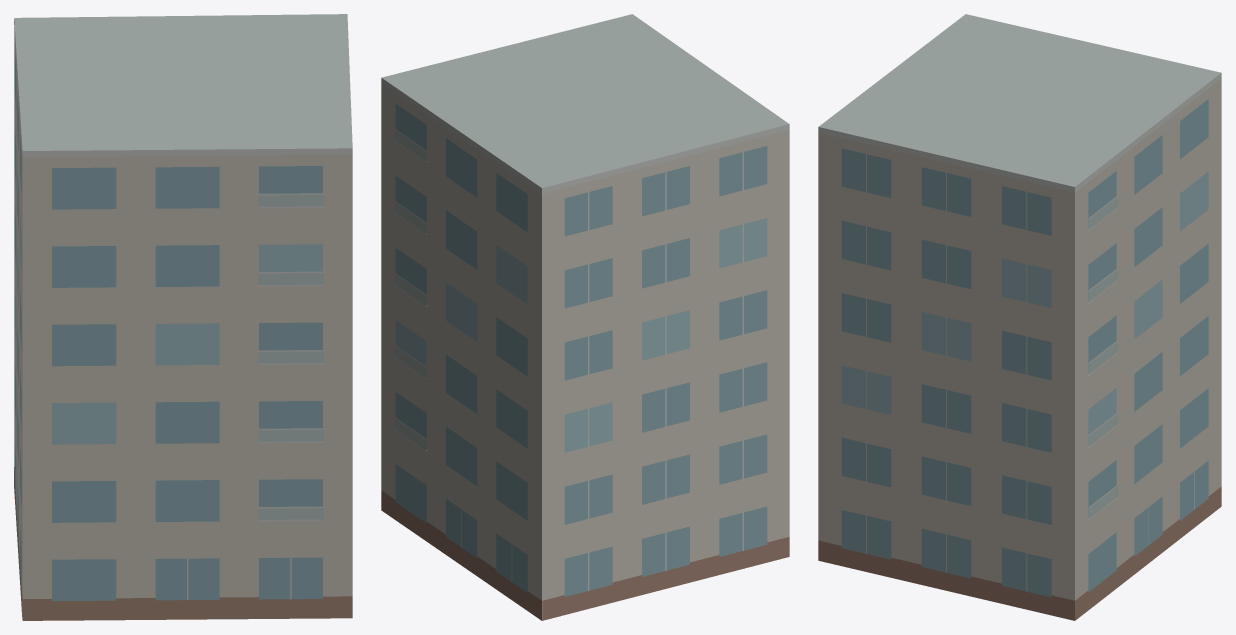
File: survey-upis-32854405.glb
3 views of the same model, side by side, from view 1: azimuth 30°, elevation 25°; view 2: azimuth 150°, elevation 25°; view 3: azimuth 270°, elevation 25° (orthographic). The views are drawn at different scales.
Visible parts, largest first — view 1: survey-upis-32854405.tmp; view 2: survey-upis-32854405.tmp; view 3: survey-upis-32854405.tmp.
Part boxes in pixels (<box>): survey-upis-32854405.tmp: <box>14,14,352,620</box>; survey-upis-32854405.tmp: <box>381,14,789,620</box>; survey-upis-32854405.tmp: <box>818,14,1221,620</box>.
Bounding box in the file's own units: 15.67 × 18.3 × 15.42.
